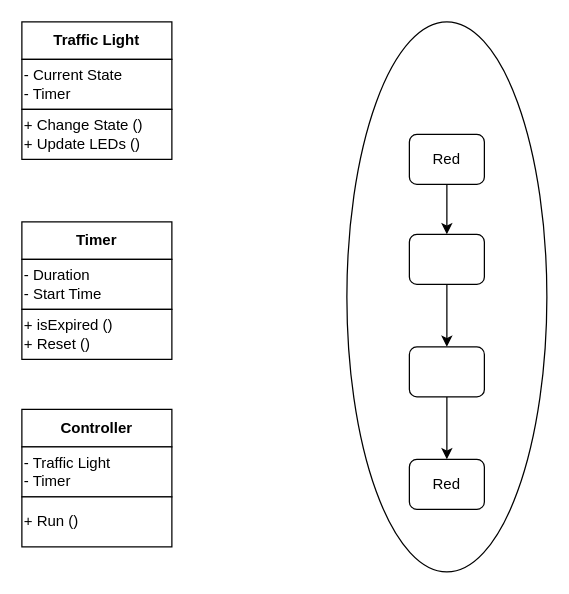
The diagram is 569 pixels wide and 594 high, and some of its shapes have lost their labels. Each missing label, with the box of its shape:
Green: (408, 233, 484, 284)
State Machine Diagram (after t20) (after t20) (after t5): (346, 21, 547, 572)
Yellow: (408, 346, 484, 397)
